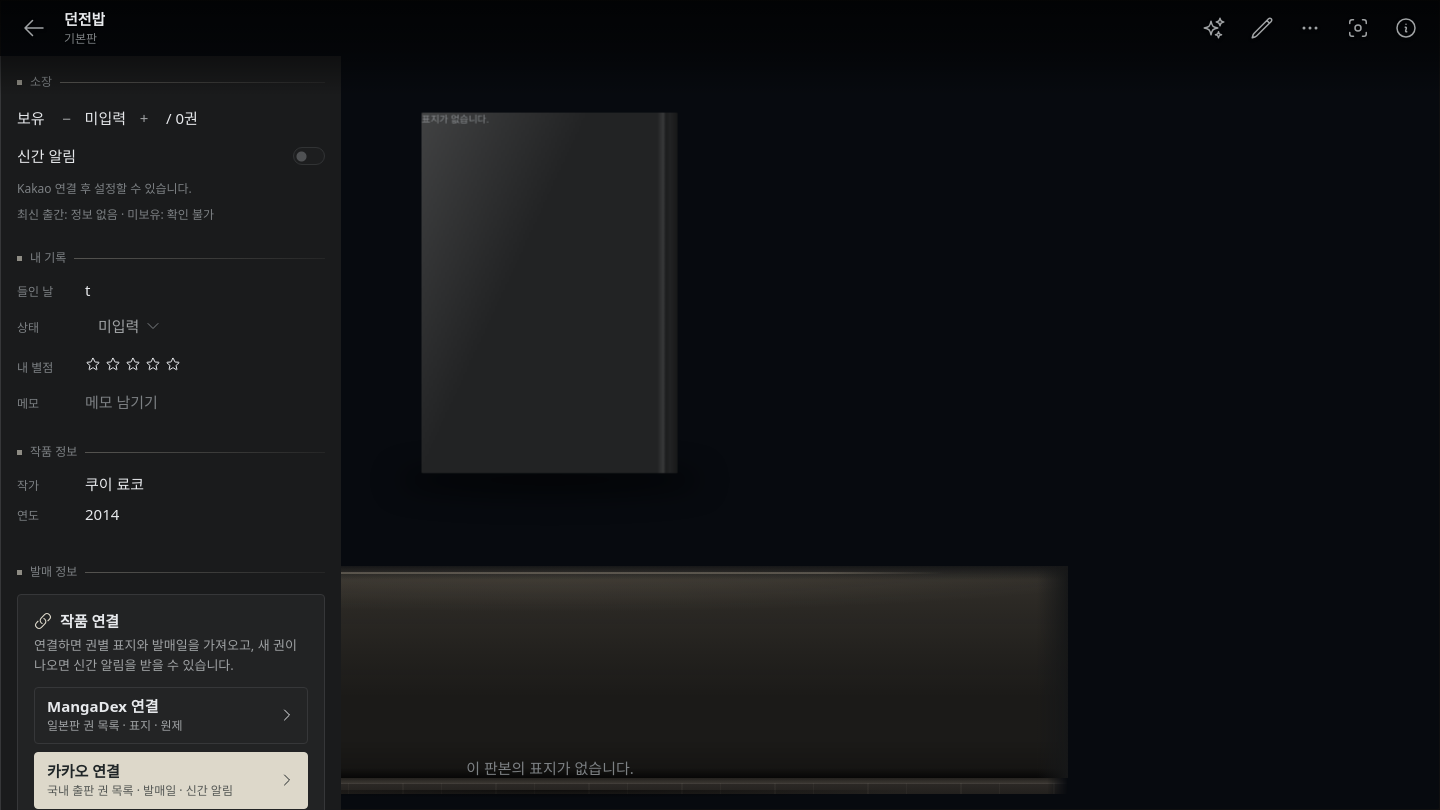
CollectionOverlay MangaDex flow › lets the 삭제 dialog handle Escape without exiting detail
Step 1. Click the button named "작품 관리" → click(1310, 28), box [1292, 10, 1328, 46]
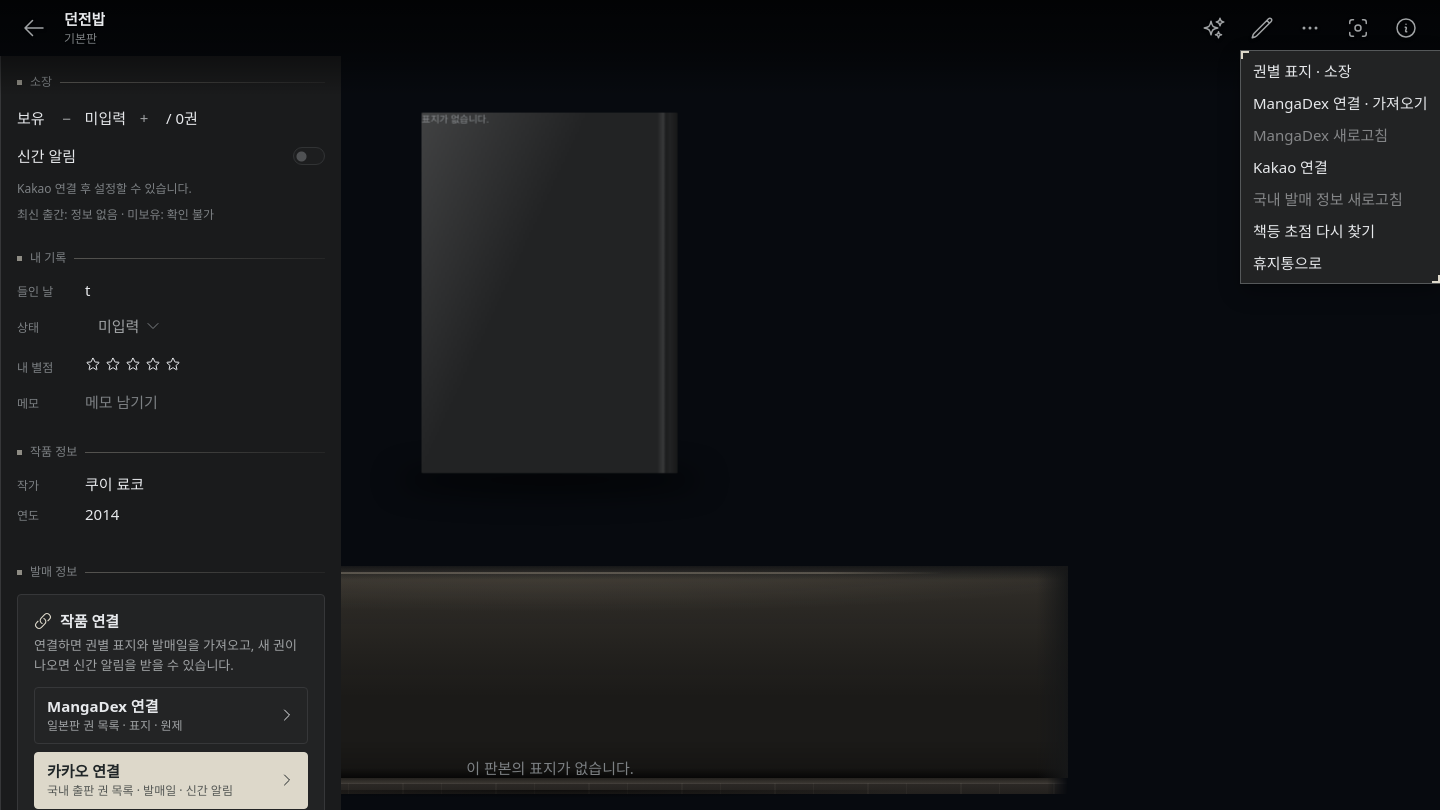
Step 2. Click the menu item "휴지통으로" → click(1340, 263), box [1245, 247, 1436, 279]
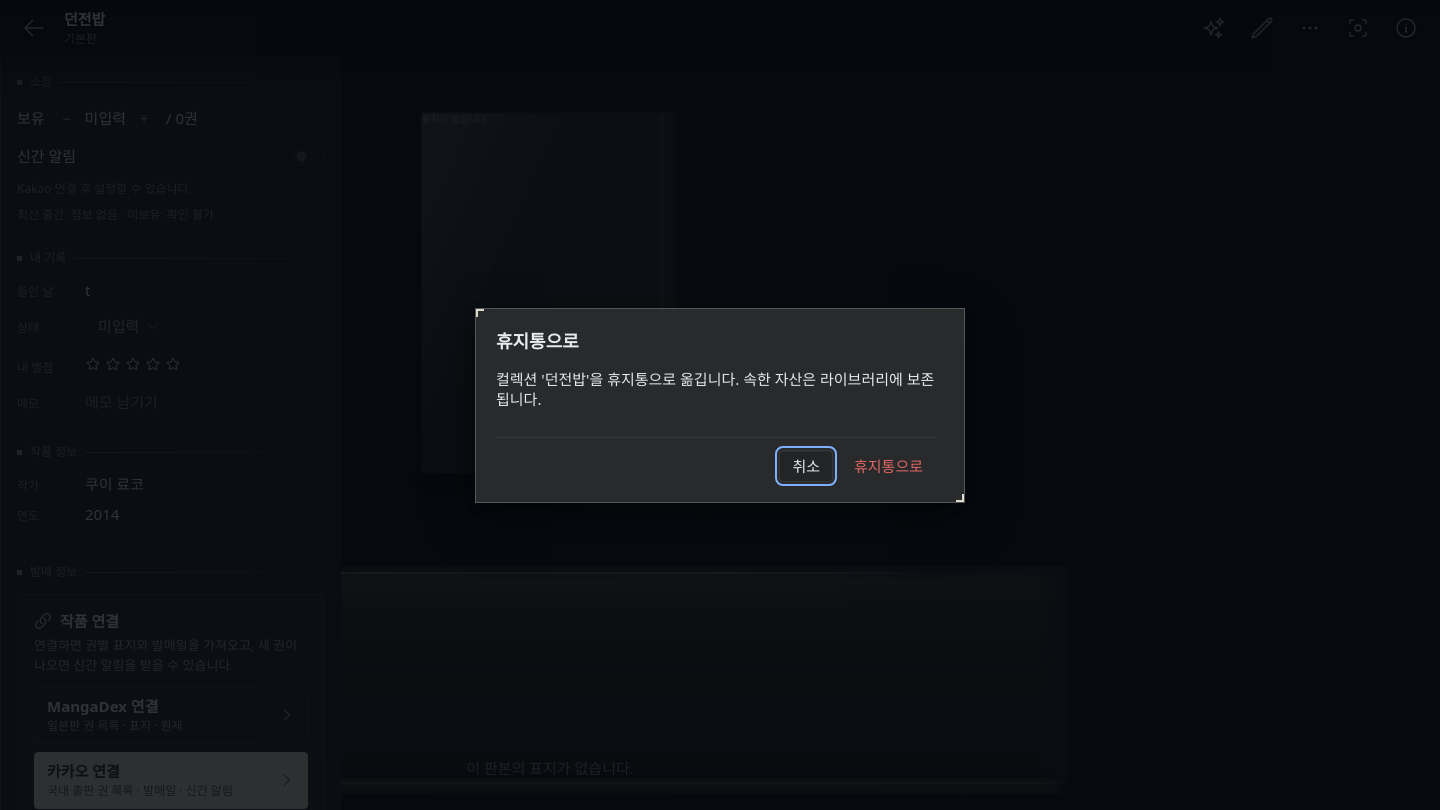
Result: the dialog "휴지통으로" is shown at [475, 308, 965, 502]
Step 3. Press Escape
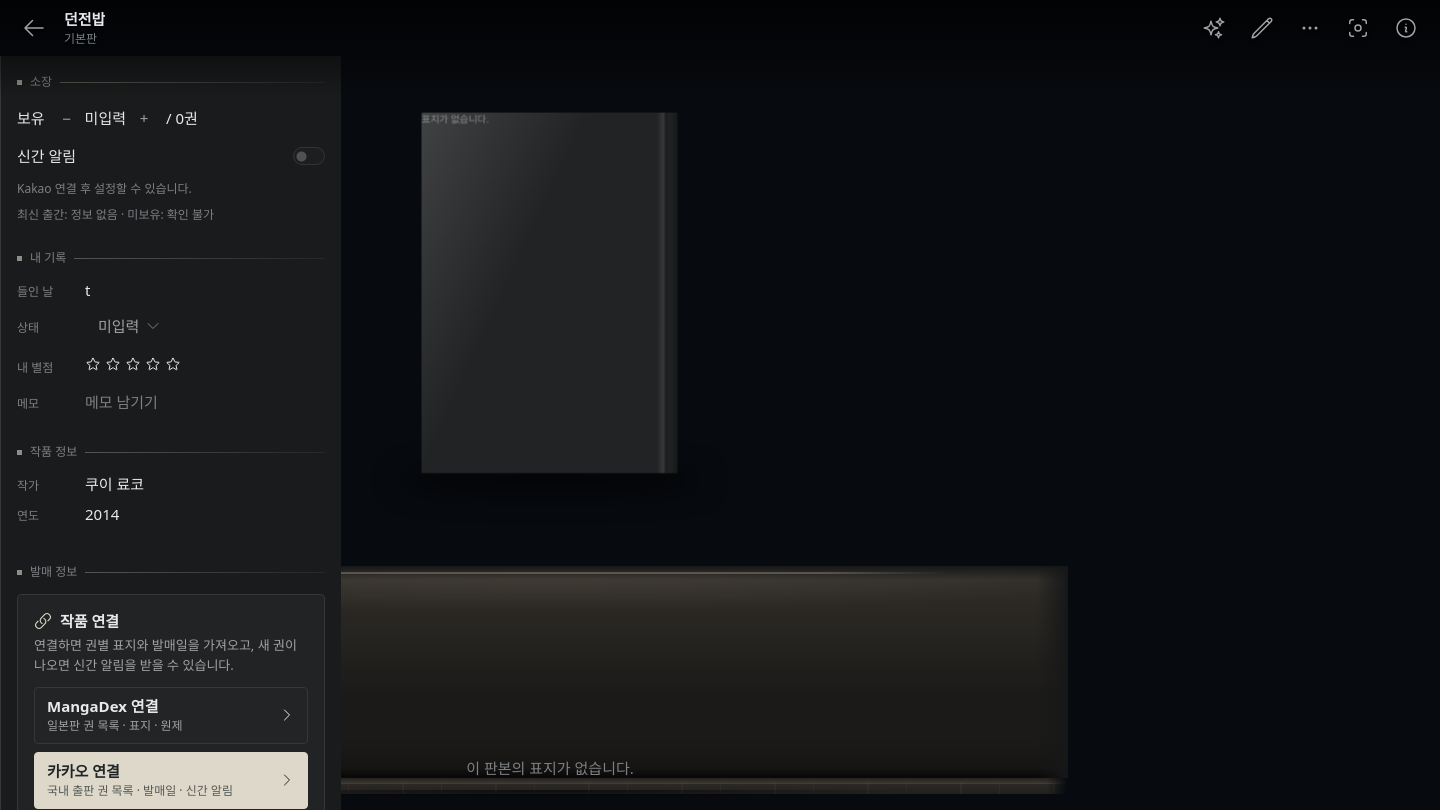
Result: the heading "휴지통으로" is gone
